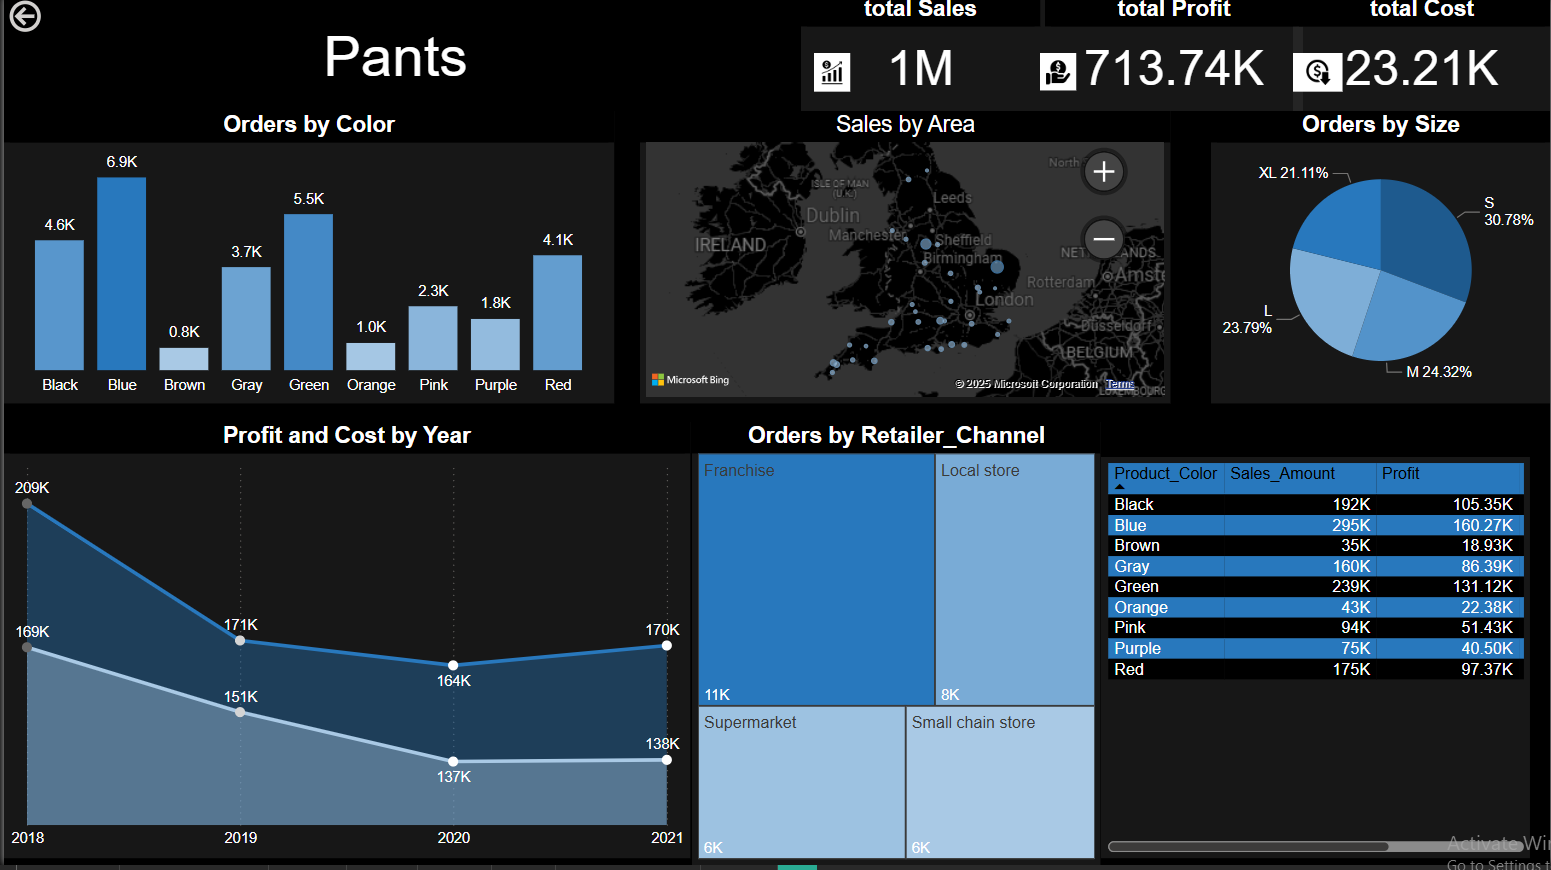

The dashboard page shown, as its layout file describes it:
{"tool":"powerbi","page":{"name":"Pants","canvas":[1280,720],"ordinal":3},"visuals":[{"type":"card","fields":{"Values":["Table.Pants"]},"box":[0,0,648,95.7],"z":0,"group":"g1"},{"type":"card","title":"total Sales","fields":{"Values":["Sum(Orders.Sales_Amount)"]},"box":[659.6,0,197.8,96],"z":0,"group":"g3"},{"type":"card","title":"total Profit","fields":{"Values":["Sum(Orders.Profit)"]},"box":[861.3,0,213.4,95.7],"z":0,"group":"g2"},{"type":"card","title":"total Cost","fields":{"Values":["Sum(Orders.Product_Cost)"]},"box":[1066.6,0,213.4,95.7],"z":0,"group":"g4"},{"type":"actionButton","box":[0,0,58,35.1],"z":1000,"group":"g1"},{"type":"image","box":[857.1,48.1,30.5,31.4],"z":1000,"group":"g2"},{"type":"image","box":[670.2,48.3,30.1,31.5],"z":1000,"group":"g3"},{"type":"image","box":[1066.6,48.3,41.3,31.6],"z":1000,"group":"g4"},{"type":"group","id":"g1","title":"Group 1","box":[0,0,648,95.7],"z":7000},{"type":"group","id":"g2","title":"Group 2","box":[857.1,0,217.5,95.7],"z":10001},{"type":"group","id":"g3","title":"Group 3","box":[659.6,0,197.8,96],"z":10002},{"type":"clusteredColumnChart","title":"Orders by Color","fields":{"Y":["Sum(Orders. Order_Quantity )"],"Category":["Products.Product_Color","Products.Product_Size"]},"box":[0,96,504.8,242.5],"z":10003},{"type":"tableEx","fields":{"Values":["Products.Product_Color","Sum(Orders.Sales_Amount)","Sum(Orders.Profit)","Sum(Orders.Cost_of_Goods_Sold)"]},"box":[907.9,382.3,355,331.9],"z":10004},{"type":"areaChart","title":"Profit and Cost by Year","fields":{"Category":["Orders.Order_Date.Variation.Date Hierarchy.Year","Orders.Order_Date.Variation.Date Hierarchy.Month"],"Y":["Sum(Orders.Profit)","Sum(Orders.Cost_of_Goods_Sold)"]},"box":[0,353.6,567.5,360.5],"z":10005},{"type":"treemap","title":"  Orders  by Retailer_Channel","fields":{"Values":["Sum(Orders. Order_Quantity )"],"Group":["Retailers.Retailer_Channel","Products.Product_Size"]},"box":[569.4,353.4,338.5,366.6],"z":10006},{"type":"pieChart","title":" Orders by Size","fields":{"Y":["Sum(Orders. Order_Quantity )"],"Category":["Products.Product_Size"]},"box":[998.8,95.7,281.2,242.4],"z":10007},{"type":"group","id":"g4","title":"Group 4","box":[1066.6,0,213.4,95.7],"z":10008},{"type":"map","title":" Sales by Area","fields":{"Size":["Sum(Orders.Sales_Amount)"],"Category":["Retailers.City","Retailers.Area"]},"box":[526.3,96,439.4,242.5],"z":10009}]}

Visuals, with their boxes in screenshot pixels (x1, y1, x2, y2), scaled from the page's 1280x720 canvas onto the 1551x870 screenshot:
card - Table.Pants: locate(0, 0, 785, 116)
"total Sales" card: locate(799, 0, 1039, 116)
"total Profit" card: locate(1044, 0, 1302, 116)
"total Cost" card: locate(1292, 0, 1550, 116)
actionButton: locate(0, 0, 70, 42)
image: locate(1039, 58, 1076, 96)
image: locate(812, 58, 849, 96)
image: locate(1292, 58, 1342, 97)
"Group 1" group: locate(0, 0, 785, 116)
"Group 2" group: locate(1039, 0, 1302, 116)
"Group 3" group: locate(799, 0, 1039, 116)
"Orders by Color" clusteredColumnChart: locate(0, 116, 612, 409)
tableEx - Products.Product_Color x Sum(Orders.Sales_Amount): locate(1100, 462, 1530, 863)
"Profit and Cost by Year" areaChart: locate(0, 427, 688, 863)
"  Orders  by Retailer_Channel" treemap: locate(690, 427, 1100, 869)
" Orders by Size" pieChart: locate(1210, 116, 1550, 409)
"Group 4" group: locate(1292, 0, 1550, 116)
" Sales by Area" map: locate(638, 116, 1170, 409)
